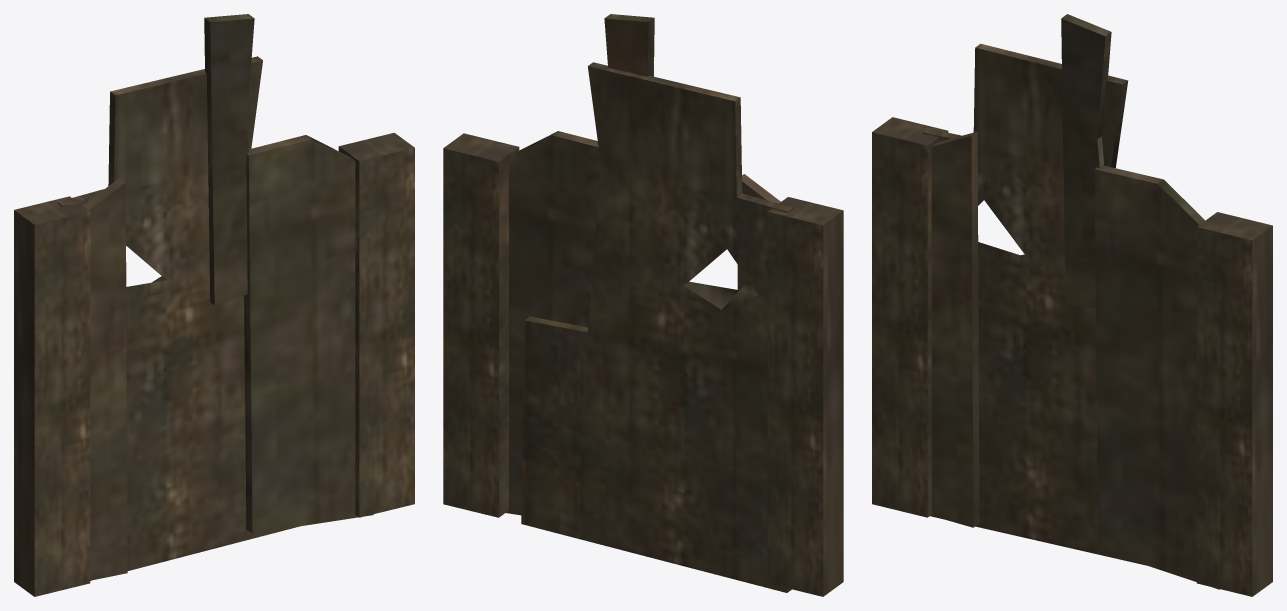
3 renders of one model, left to right at view 1: azimuth 30°, elevation 25°; view 2: azimuth 150°, elevation 25°; view 3: azimuth 330°, elevation 25°, orthographic.
Parts seen in each view (by area): view 1: woodwall3; view 2: woodwall3; view 3: woodwall3.
Part boxes in pixels (bbox=[...]): woodwall3: bbox=[14, 14, 414, 596]; woodwall3: bbox=[443, 14, 843, 596]; woodwall3: bbox=[872, 14, 1272, 596].
Bounding box in the file's own units: 2.24 × 3 × 0.209.
1 material, 1 textured.
